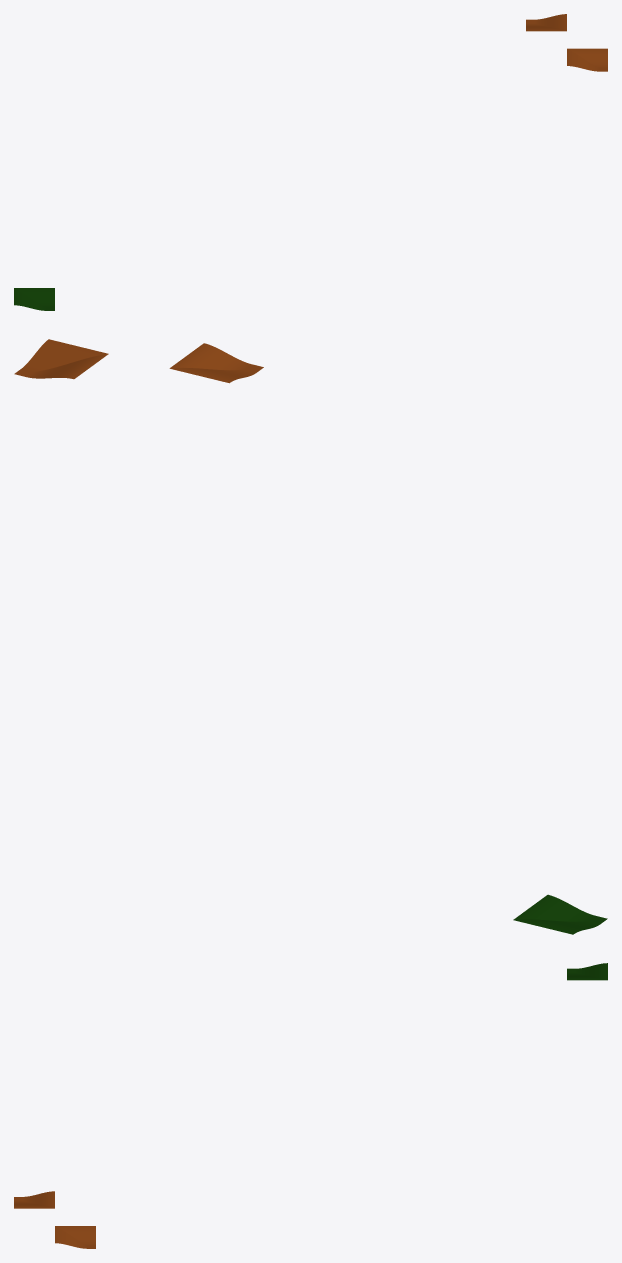
The model's file is Terrain_Part_Edge_In.glb.
3 renders of one model, top to bottom at view 1: azimuth 90°, elevation 25°; view 2: azimuth 150°, elevation 25°; view 3: azimuth 270°, elevation 25°, orthographic. The views are drawn at different scales.
Parts seen in each view (by area): view 1: Terrain_Part_Edge_In.003; view 2: Terrain_Part_Edge_In.003; view 3: Terrain_Part_Edge_In.003.
Boxes of the visible parts, x1,y1,x2,y2 form: Terrain_Part_Edge_In.003: [14, 14, 607, 310]; Terrain_Part_Edge_In.003: [14, 339, 607, 934]; Terrain_Part_Edge_In.003: [14, 963, 607, 1248].
Size of the model in its own units: 330 by 6 by 290.
